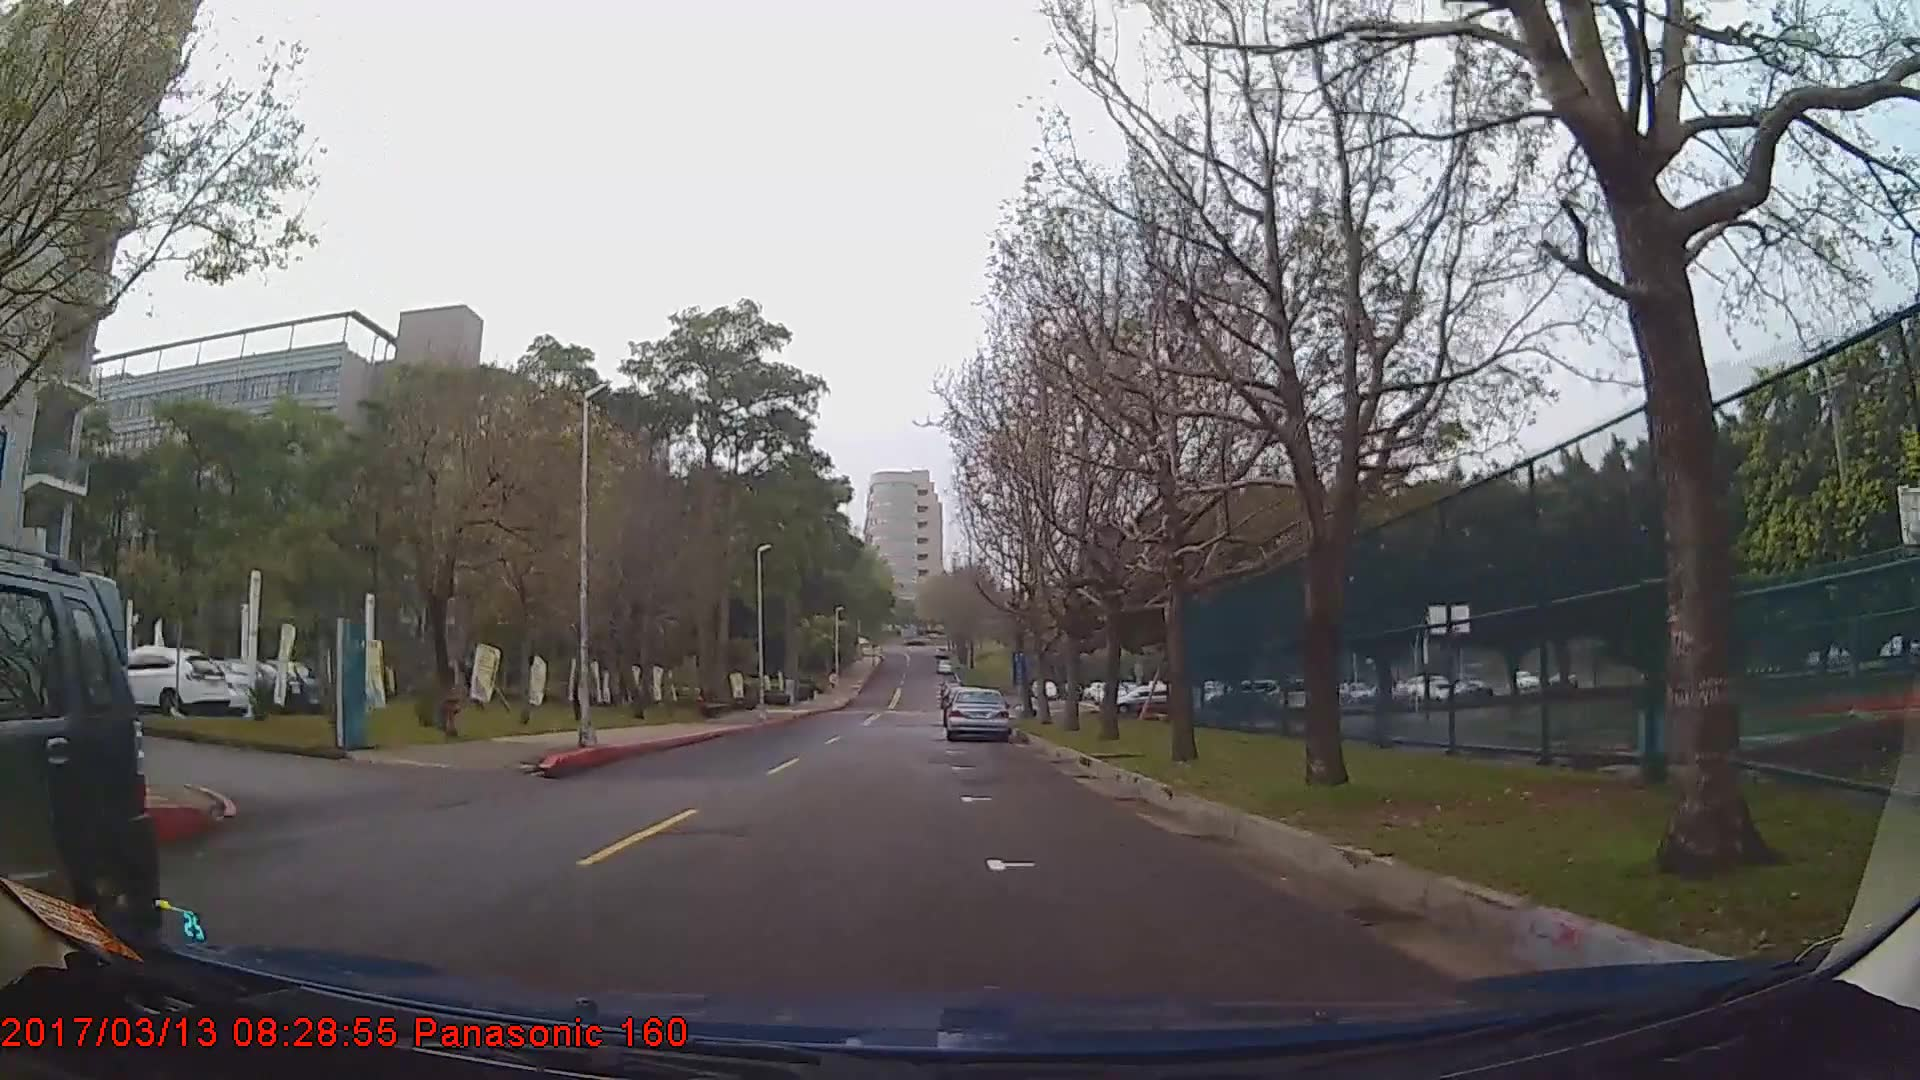vehicle: (0, 553, 164, 980), (88, 645, 229, 717), (944, 684, 1011, 741)
